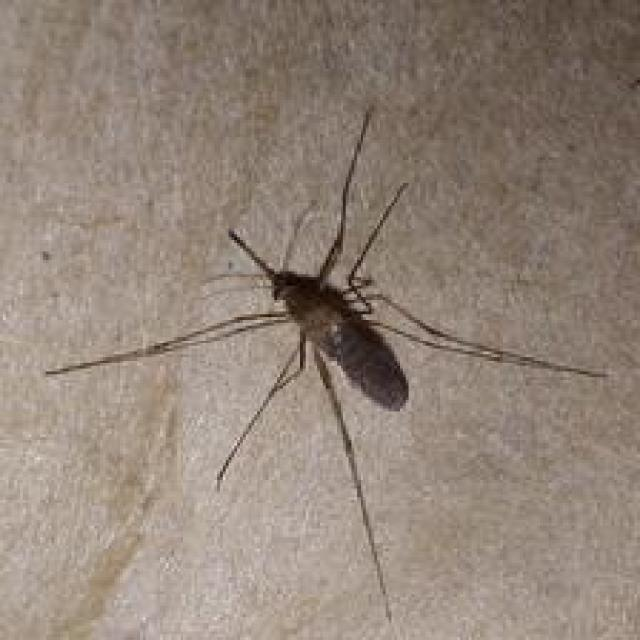Culex: (43, 105, 611, 626)
